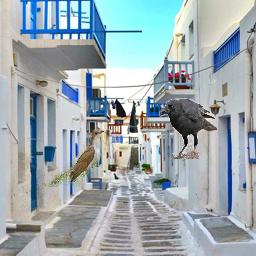Crow: (159, 99, 217, 160)
Cuckoo: (46, 129, 104, 187)
